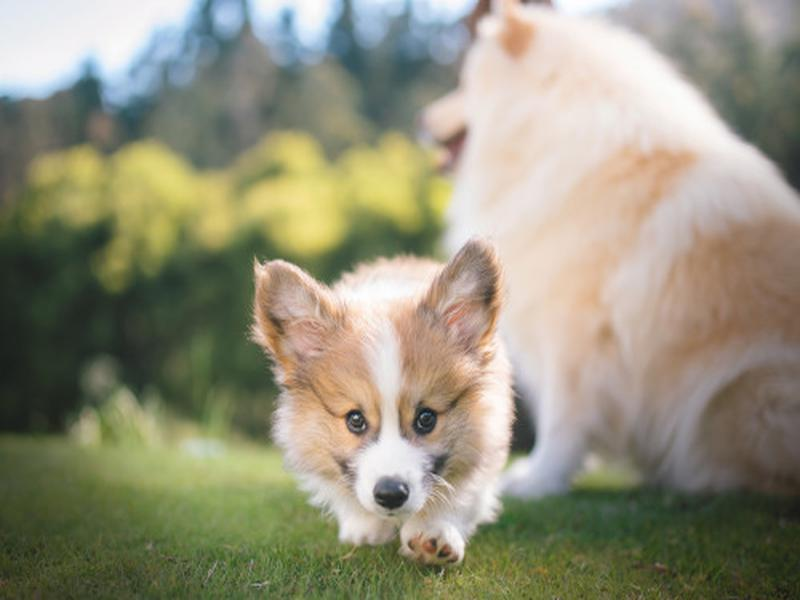corgi: (252, 237, 516, 522)
